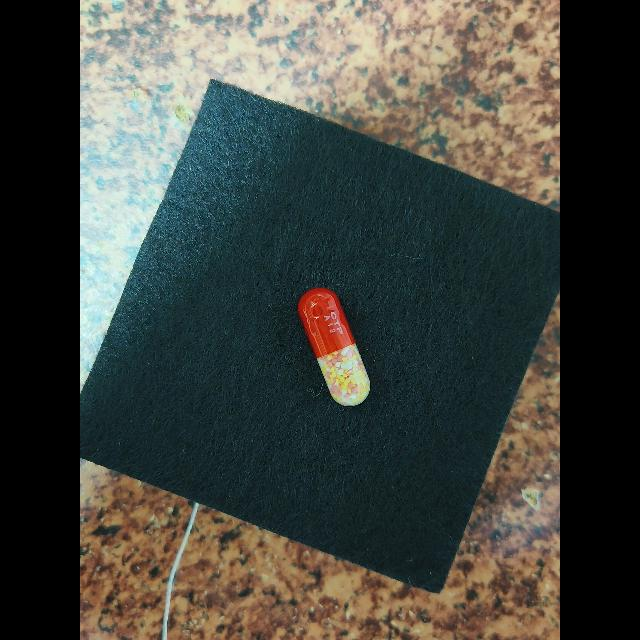Intact Capsule: (298, 288, 370, 406)
